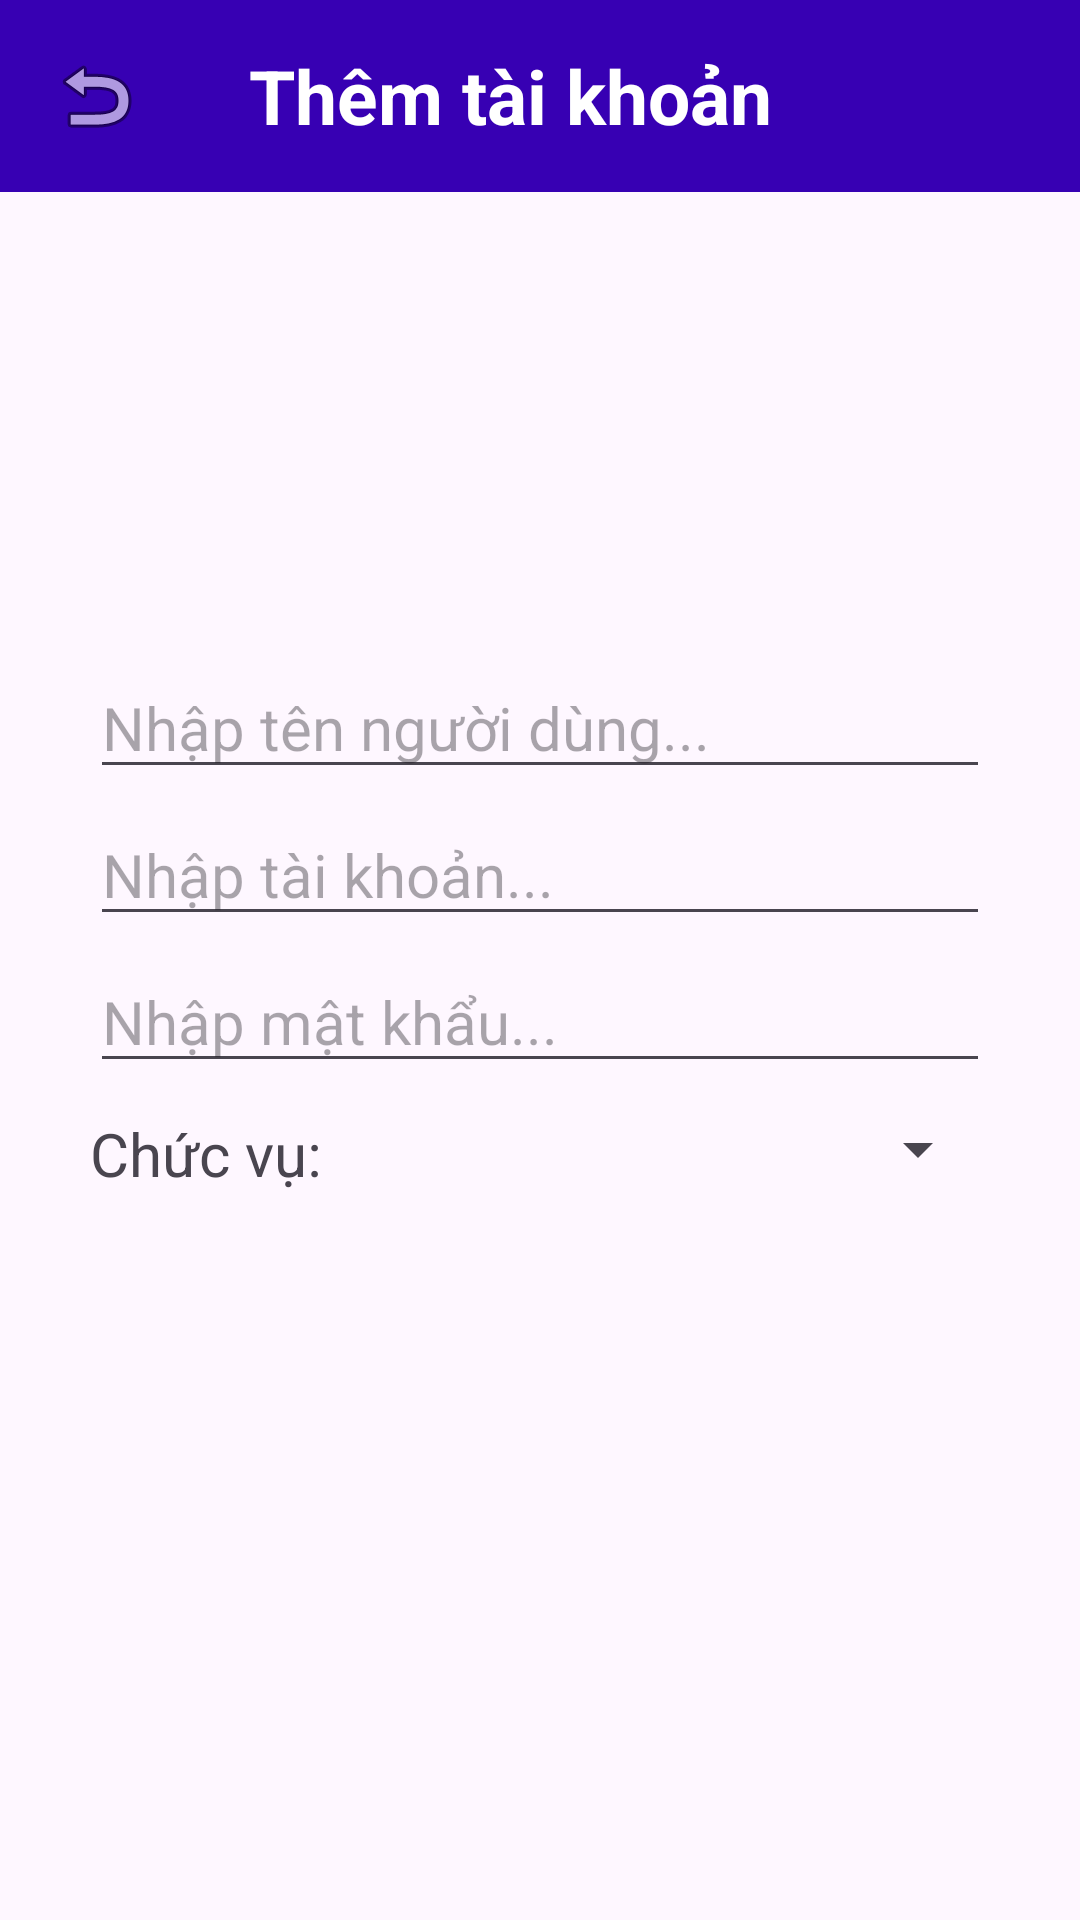

Where icons sit on this 1080px×1920px app screen, as rect(x1, y1, x2, y2):
Quay lại: rect(63, 65, 132, 128)
